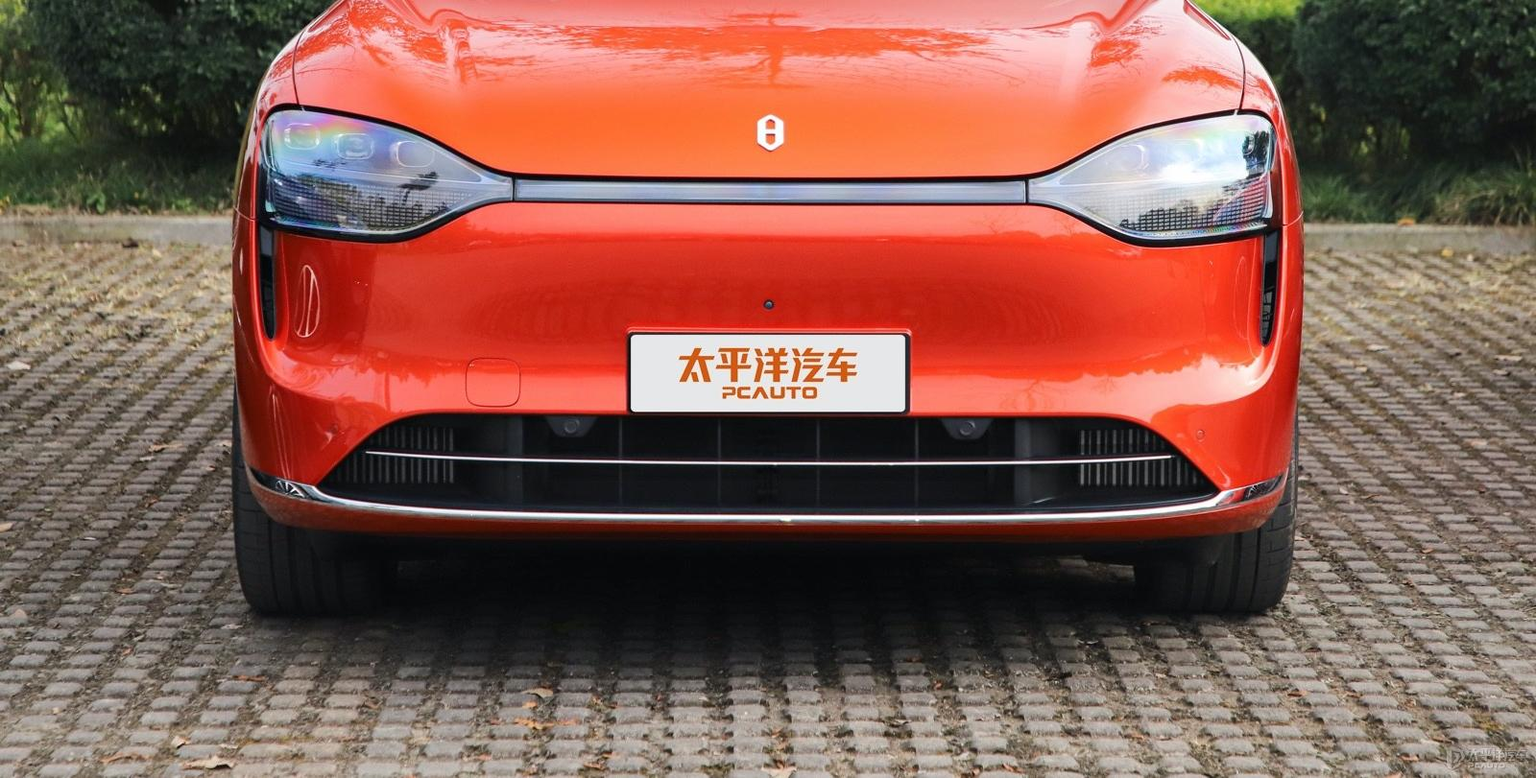AITO: (757, 115, 783, 150)
